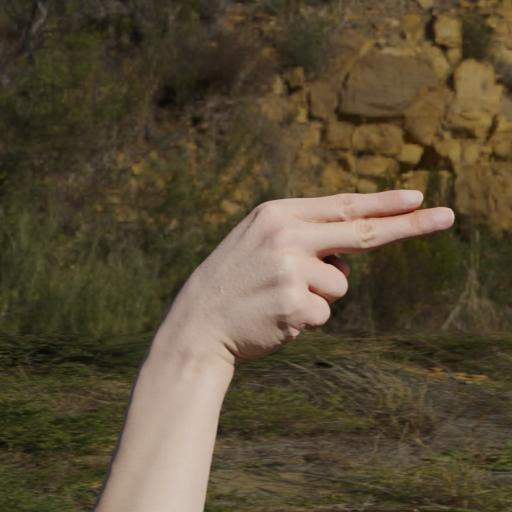H: (158, 185, 457, 370)
